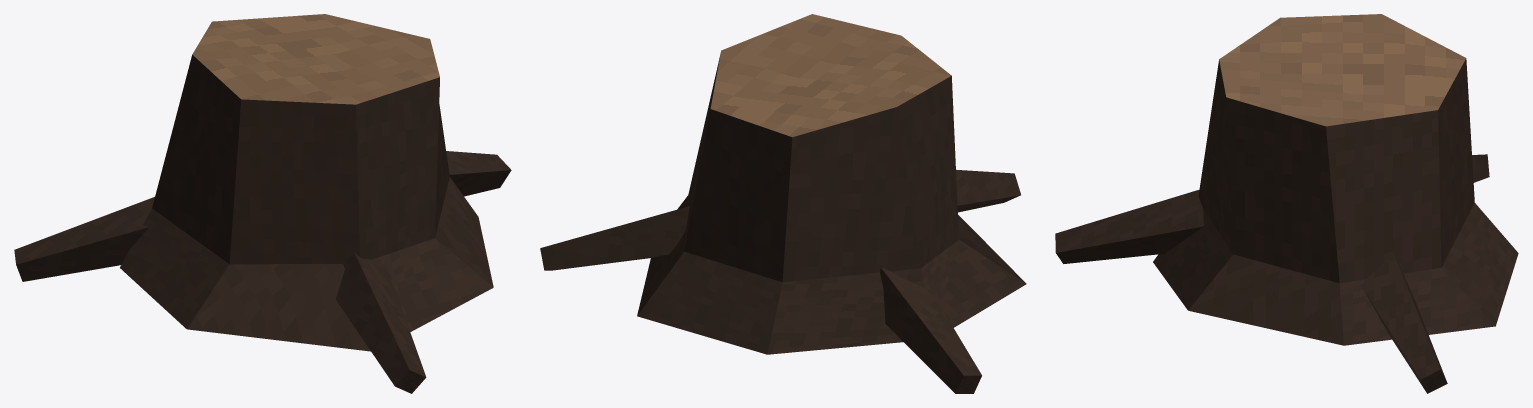
File: tree_stump.glb
The picture shows the model from 3 angles, left to right: view 1: azimuth 30°, elevation 25°; view 2: azimuth 150°, elevation 25°; view 3: azimuth 270°, elevation 25°; orthographic projection. The views are drawn at different scales.
Parts seen in each view (by area): view 1: tree_stump; view 2: tree_stump; view 3: tree_stump.
Boxes of the visible parts, box(x1,y1,x2,y2) form: tree_stump: box(14, 14, 511, 393); tree_stump: box(540, 14, 1026, 393); tree_stump: box(1055, 14, 1518, 393).
Bounding box in the file's own units: 1.3 × 0.6137 × 1.15.
Materials: 1 (1 with a texture image).
